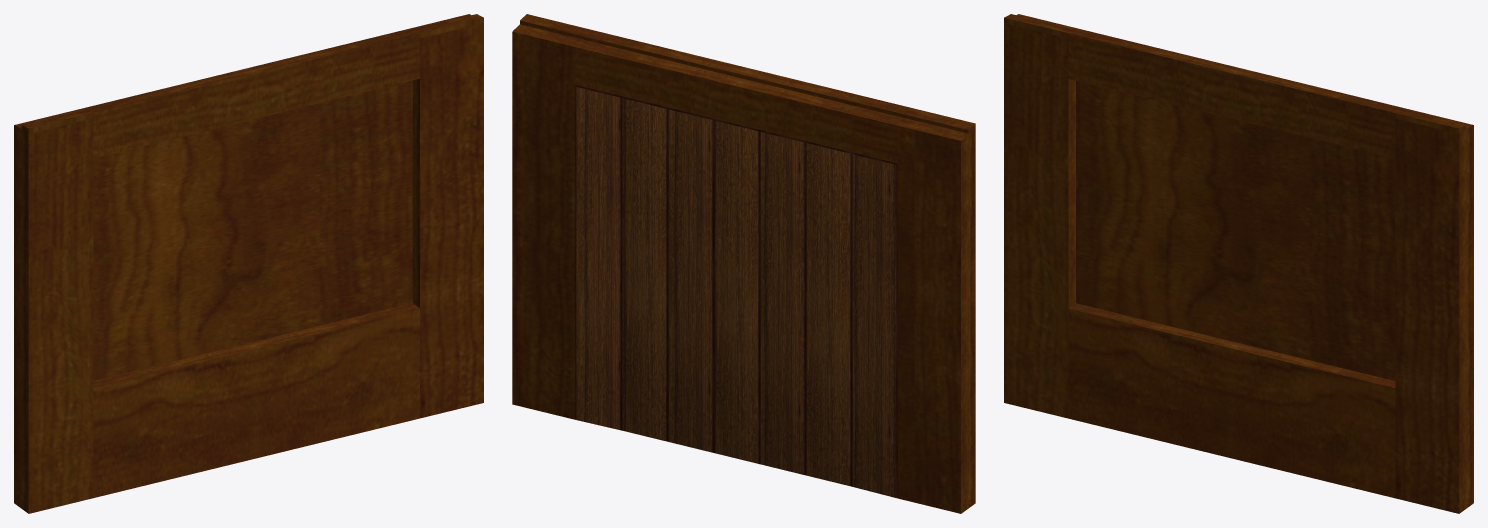
File: StableDoorLower01.fbx
The picture shows the model from 3 angles, left to right: view 1: azimuth 30°, elevation 25°; view 2: azimuth 150°, elevation 25°; view 3: azimuth 330°, elevation 25°; orthographic projection.
Parts seen in each view (by area): view 1: default; view 2: default; view 3: default.
Part boxes in pixels (box(x1,y1,x2,y2)): default: box(14, 14, 483, 513); default: box(512, 14, 975, 513); default: box(1004, 14, 1473, 513).
Size of the model in its own units: 113 by 91.3 by 6.29.
